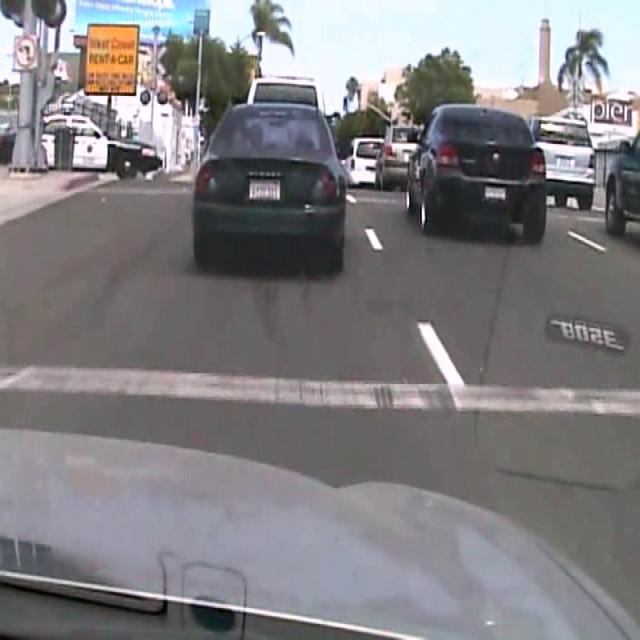noLeftTurn: (12, 34, 38, 70)
